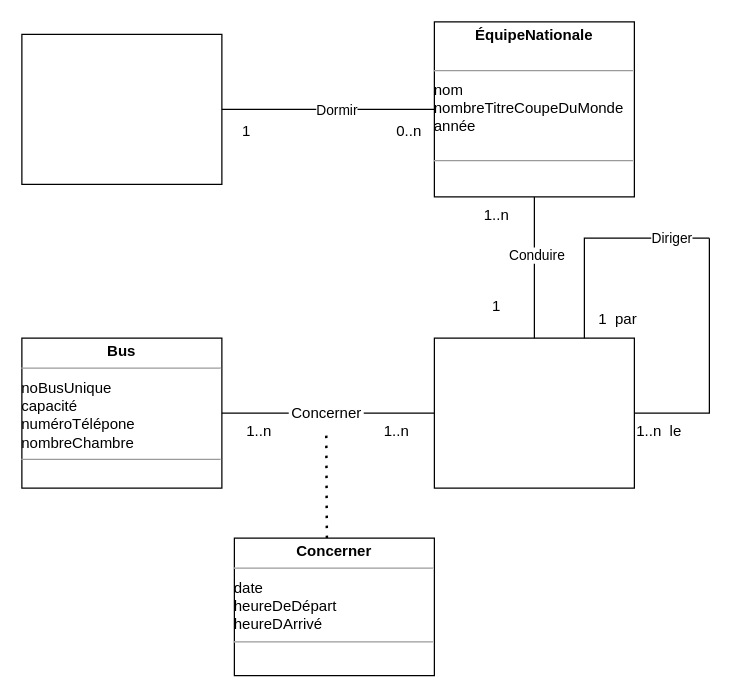
Some shapes in this 733 by 698 pixel diagram are drawn without their labels. Here are the shapes that lost their labels. From the top down, the centre of each, then its label:
At [121,108]: "Hotel nom adresse numéroTélépone nombreChambre".
At [533,412]: "Chauffeur matricule nom prénom numéroPortable".
